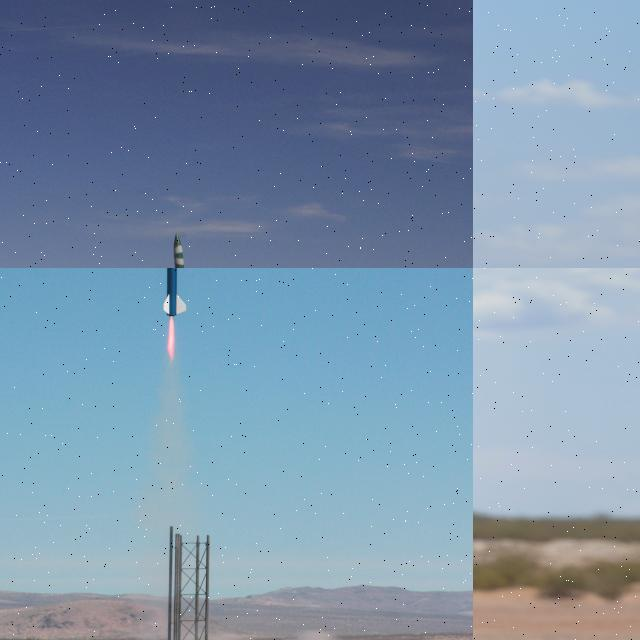Rocket: (162, 268, 186, 317), (169, 232, 193, 268)
